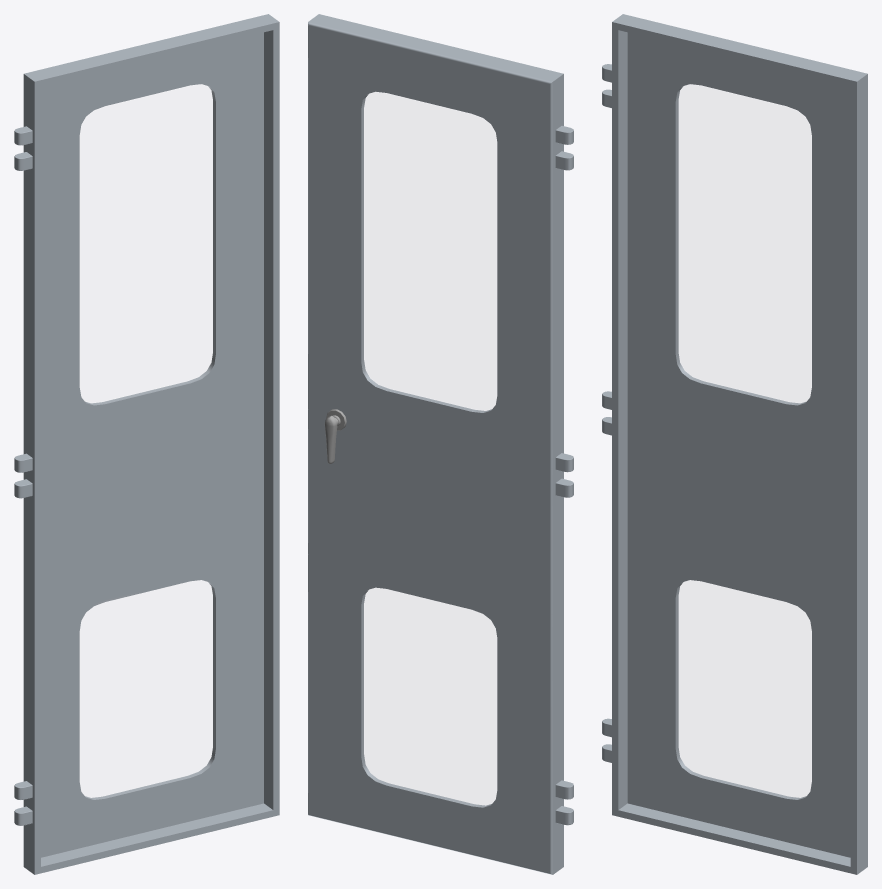
Rendered from VCB_BACK_DOOR2.fbx.
The picture shows the model from 3 angles, left to right: view 1: azimuth 30°, elevation 25°; view 2: azimuth 150°, elevation 25°; view 3: azimuth 330°, elevation 25°; orthographic projection.
Parts seen in each view (by area): view 1: VCB_BACK_DOOR1; view 2: VCB_BACK_DOOR1; view 3: VCB_BACK_DOOR1.
Part boxes in pixels (x1,y1,x2,y2): VCB_BACK_DOOR1: (14,14,279,874); VCB_BACK_DOOR1: (308,14,573,874); VCB_BACK_DOOR1: (602,14,867,874).
Size of the model in its own units: 0.6334 by 1.85 by 0.0875.
2 materials, 1 textured.
